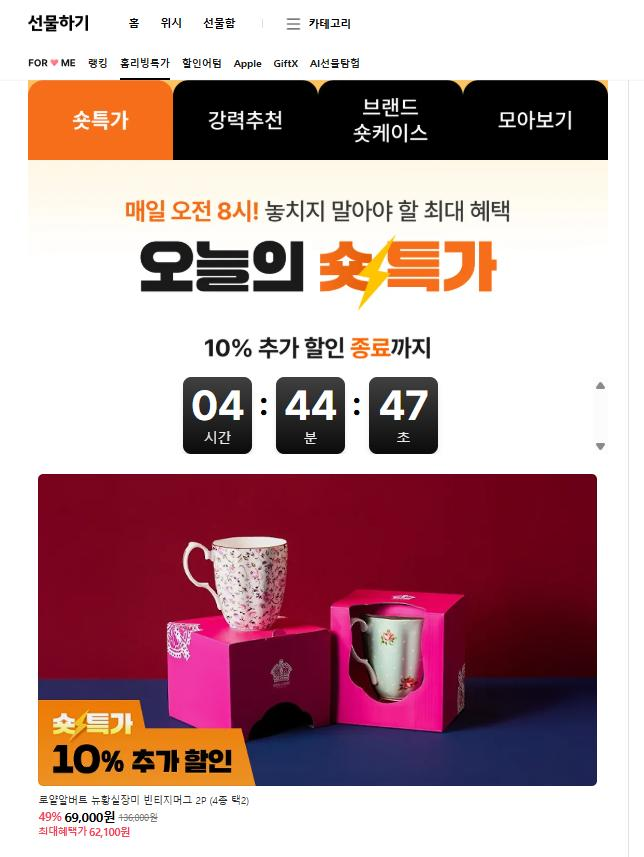button: (28, 79, 171, 160), (176, 83, 317, 163), (319, 85, 467, 158), (474, 87, 606, 159), (276, 3, 364, 41), (306, 50, 365, 81), (193, 4, 239, 39), (114, 50, 169, 76), (26, 51, 79, 73), (113, 10, 149, 38), (179, 53, 227, 74), (153, 10, 188, 38), (229, 48, 264, 74), (271, 53, 306, 74), (81, 50, 109, 73)
popup: (33, 474, 602, 791), (30, 160, 593, 472)
